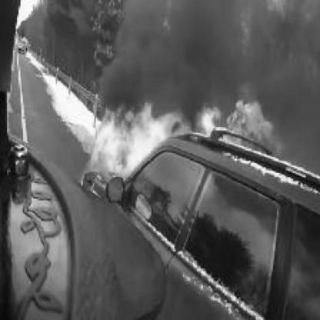Fire: (194, 96, 278, 152)
Smoke: (96, 4, 313, 98), (274, 105, 316, 157)
